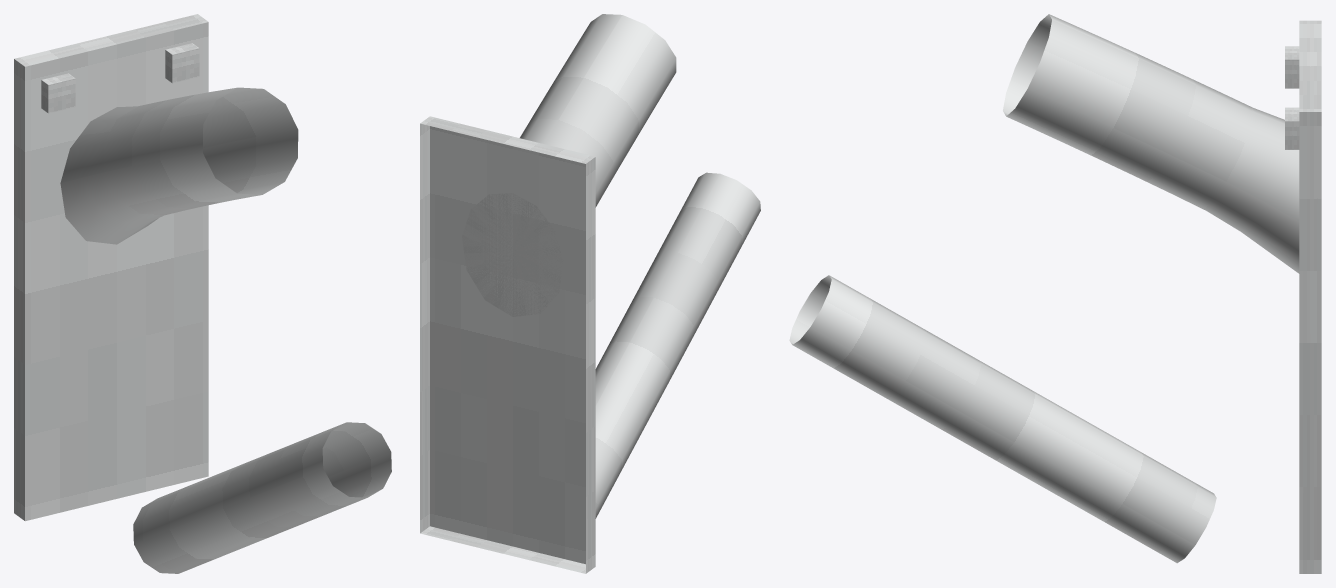
File: luminairearm_truss12ftdouble_c9_wall.obj
3 views of the same model, side by side, from view 1: azimuth 30°, elevation 25°; view 2: azimuth 150°, elevation 25°; view 3: azimuth 270°, elevation 25° (orthographic). The views are drawn at different scales.
Visible parts, largest first — view 1: luminairearm_truss12ftdouble_c9_wall; view 2: luminairearm_truss12ftdouble_c9_wall; view 3: luminairearm_truss12ftdouble_c9_wall.
Part boxes in pixels (x1,y1,x2,y2): luminairearm_truss12ftdouble_c9_wall: (14, 14, 391, 573); luminairearm_truss12ftdouble_c9_wall: (420, 14, 760, 573); luminairearm_truss12ftdouble_c9_wall: (789, 14, 1321, 573).
Bounding box in the file's own units: 0.4222 × 1.16 × 1.04.
